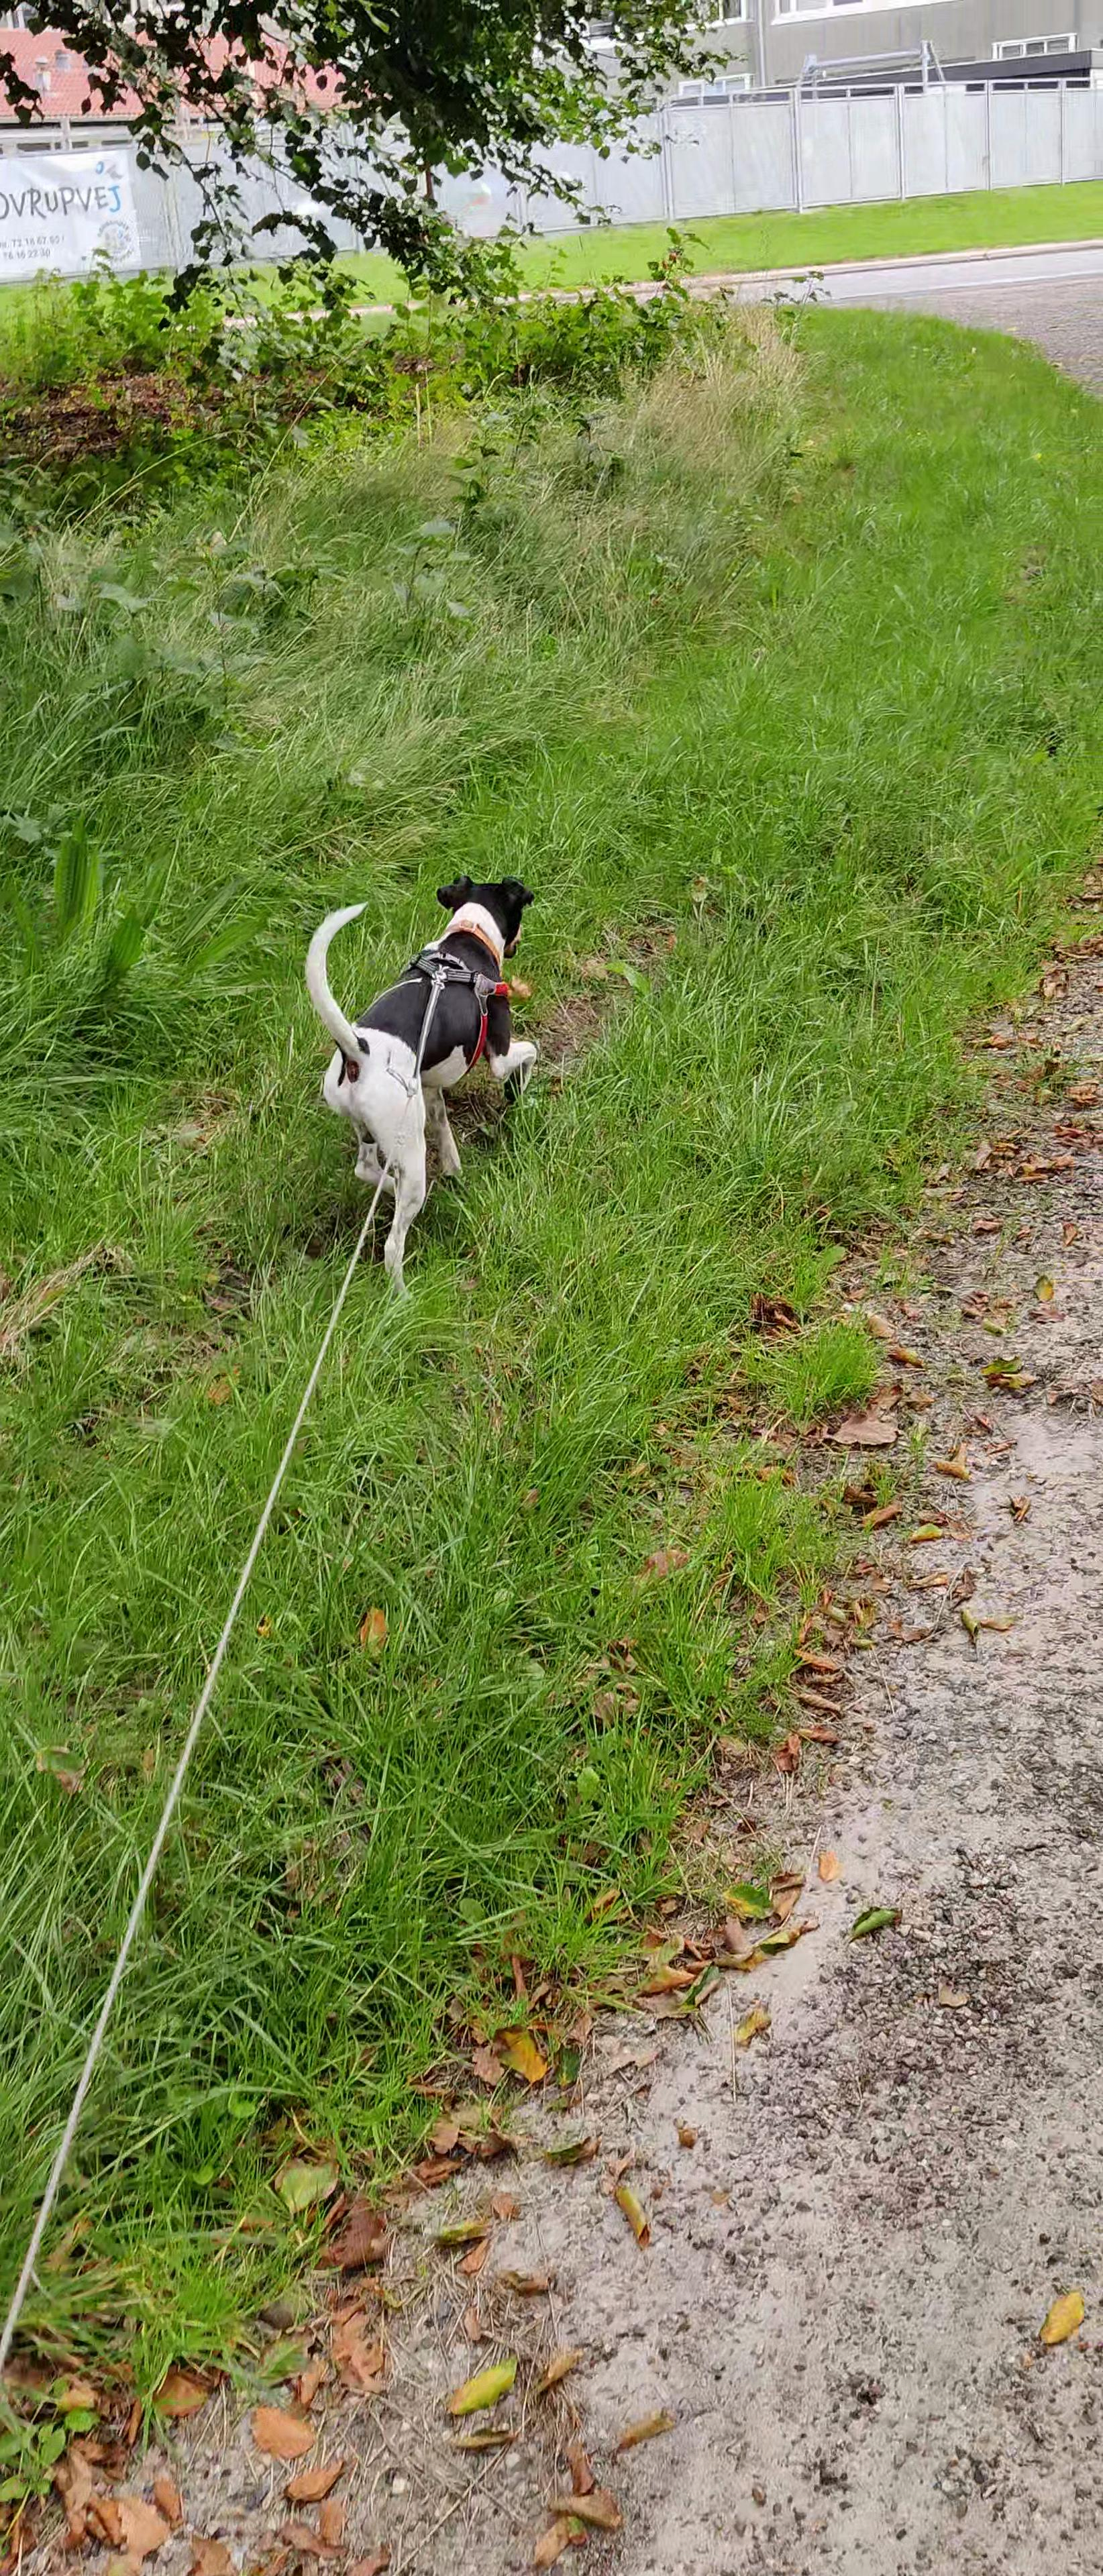Dog: (296, 851, 564, 1321)
